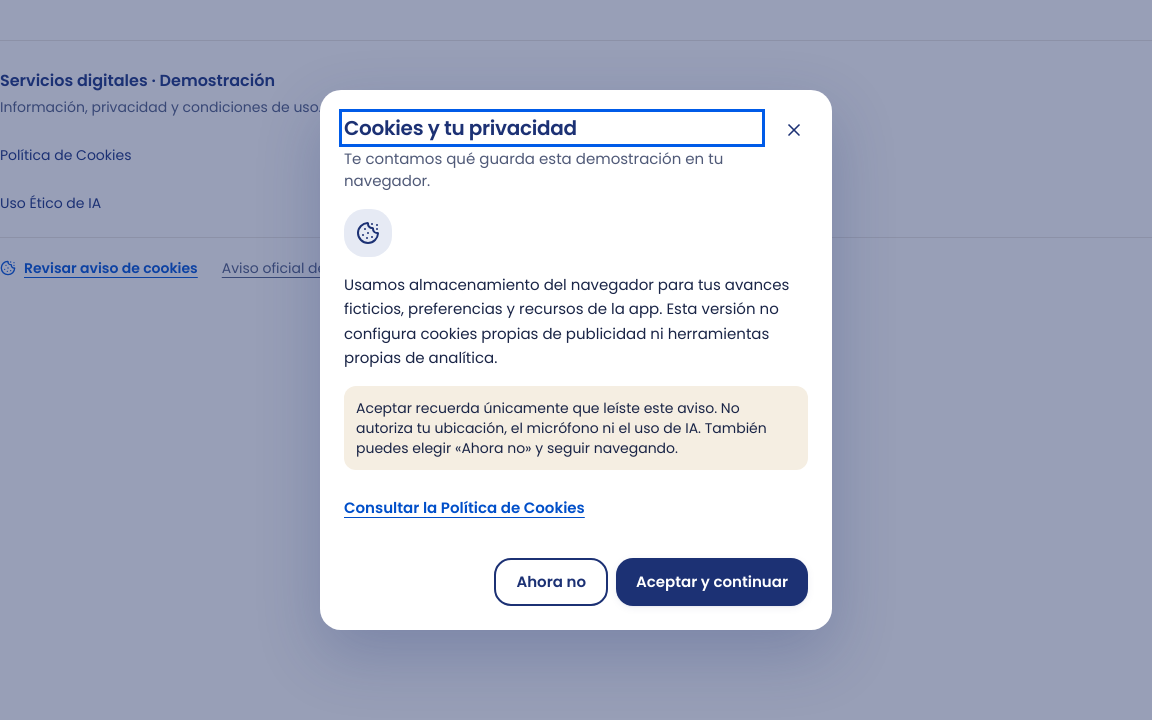
Footer y aviso de cookies › ofrece los cuatro documentos y recuerda solo la lectura tras aceptar
The width and height of the screenshot is (1152, 720).
Check: the text "No autoriza tu ubicación" is shown, box [356, 398, 767, 458]
Click the button "Aceptar y continuar": [712, 582] box [616, 558, 808, 606]
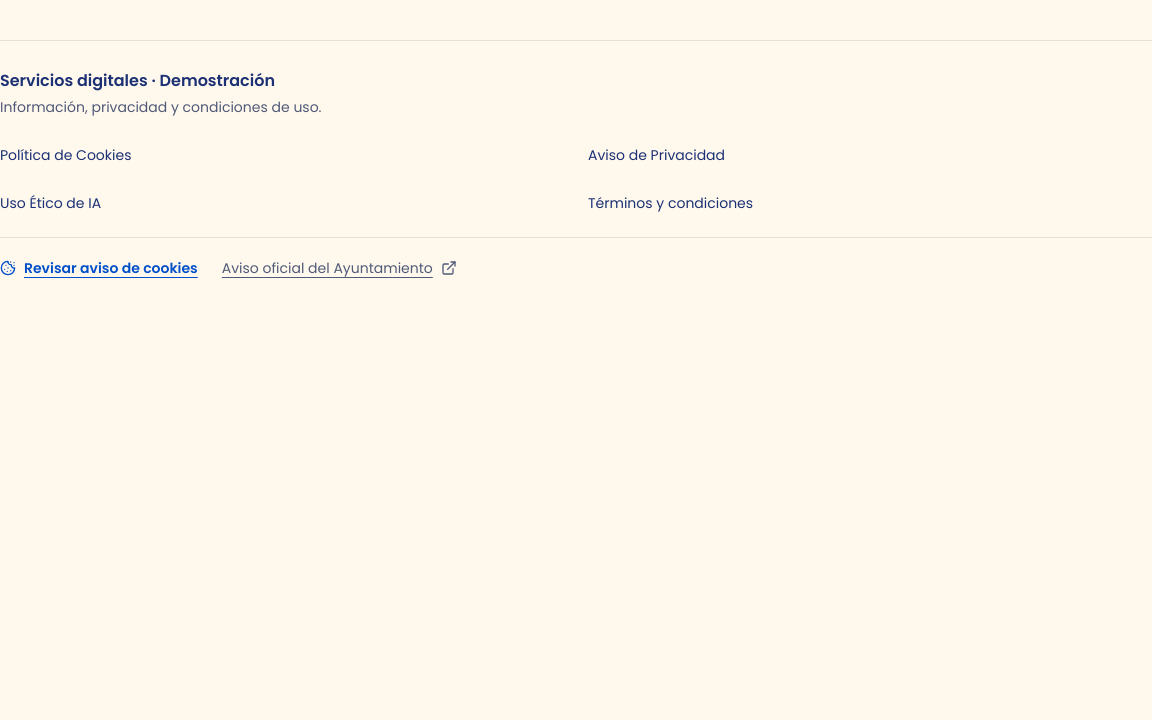
Check: the dialog is gone
